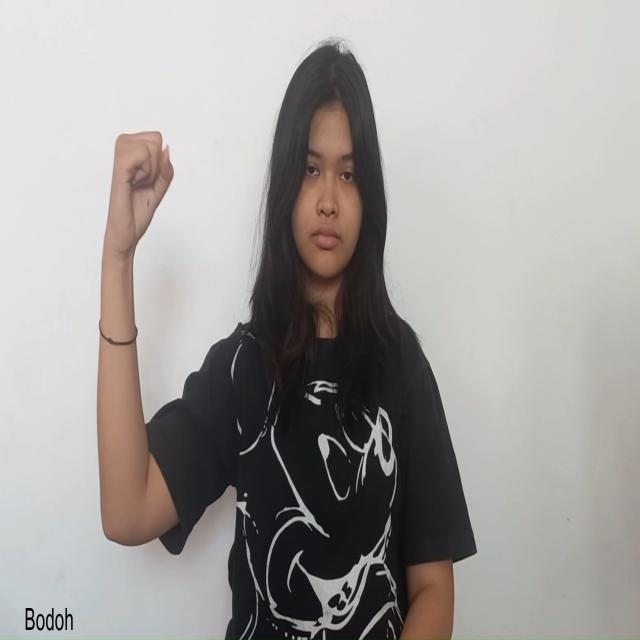Bodoh -BISINDO-: (99, 128, 176, 268)
